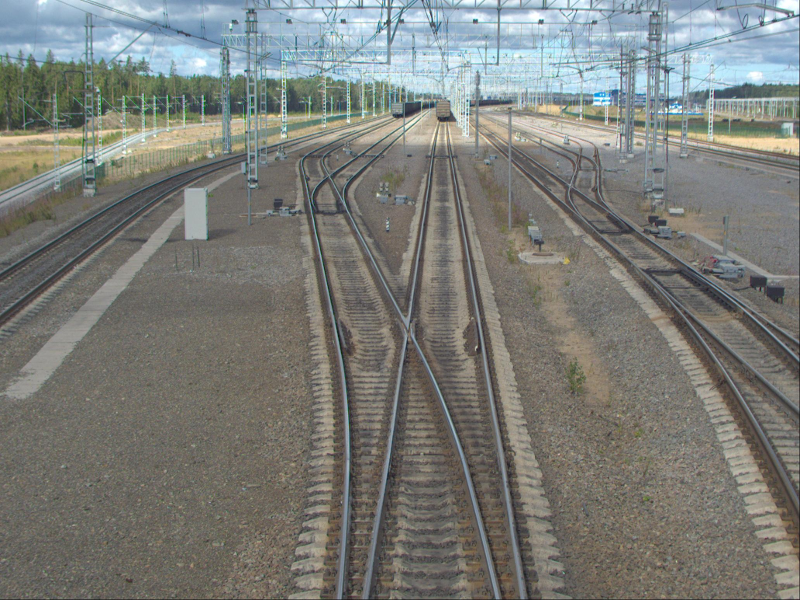left: (306, 191, 351, 211)
